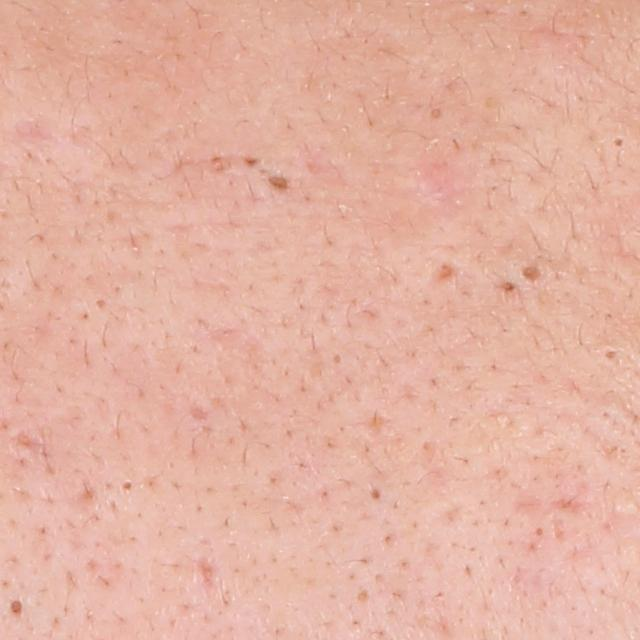atrophic_scar: (194, 555, 223, 593), (426, 257, 461, 286), (189, 401, 215, 422)
comedo: (520, 259, 554, 288), (6, 595, 26, 619), (497, 280, 518, 297), (429, 106, 442, 121), (119, 479, 133, 492), (614, 137, 627, 149)
